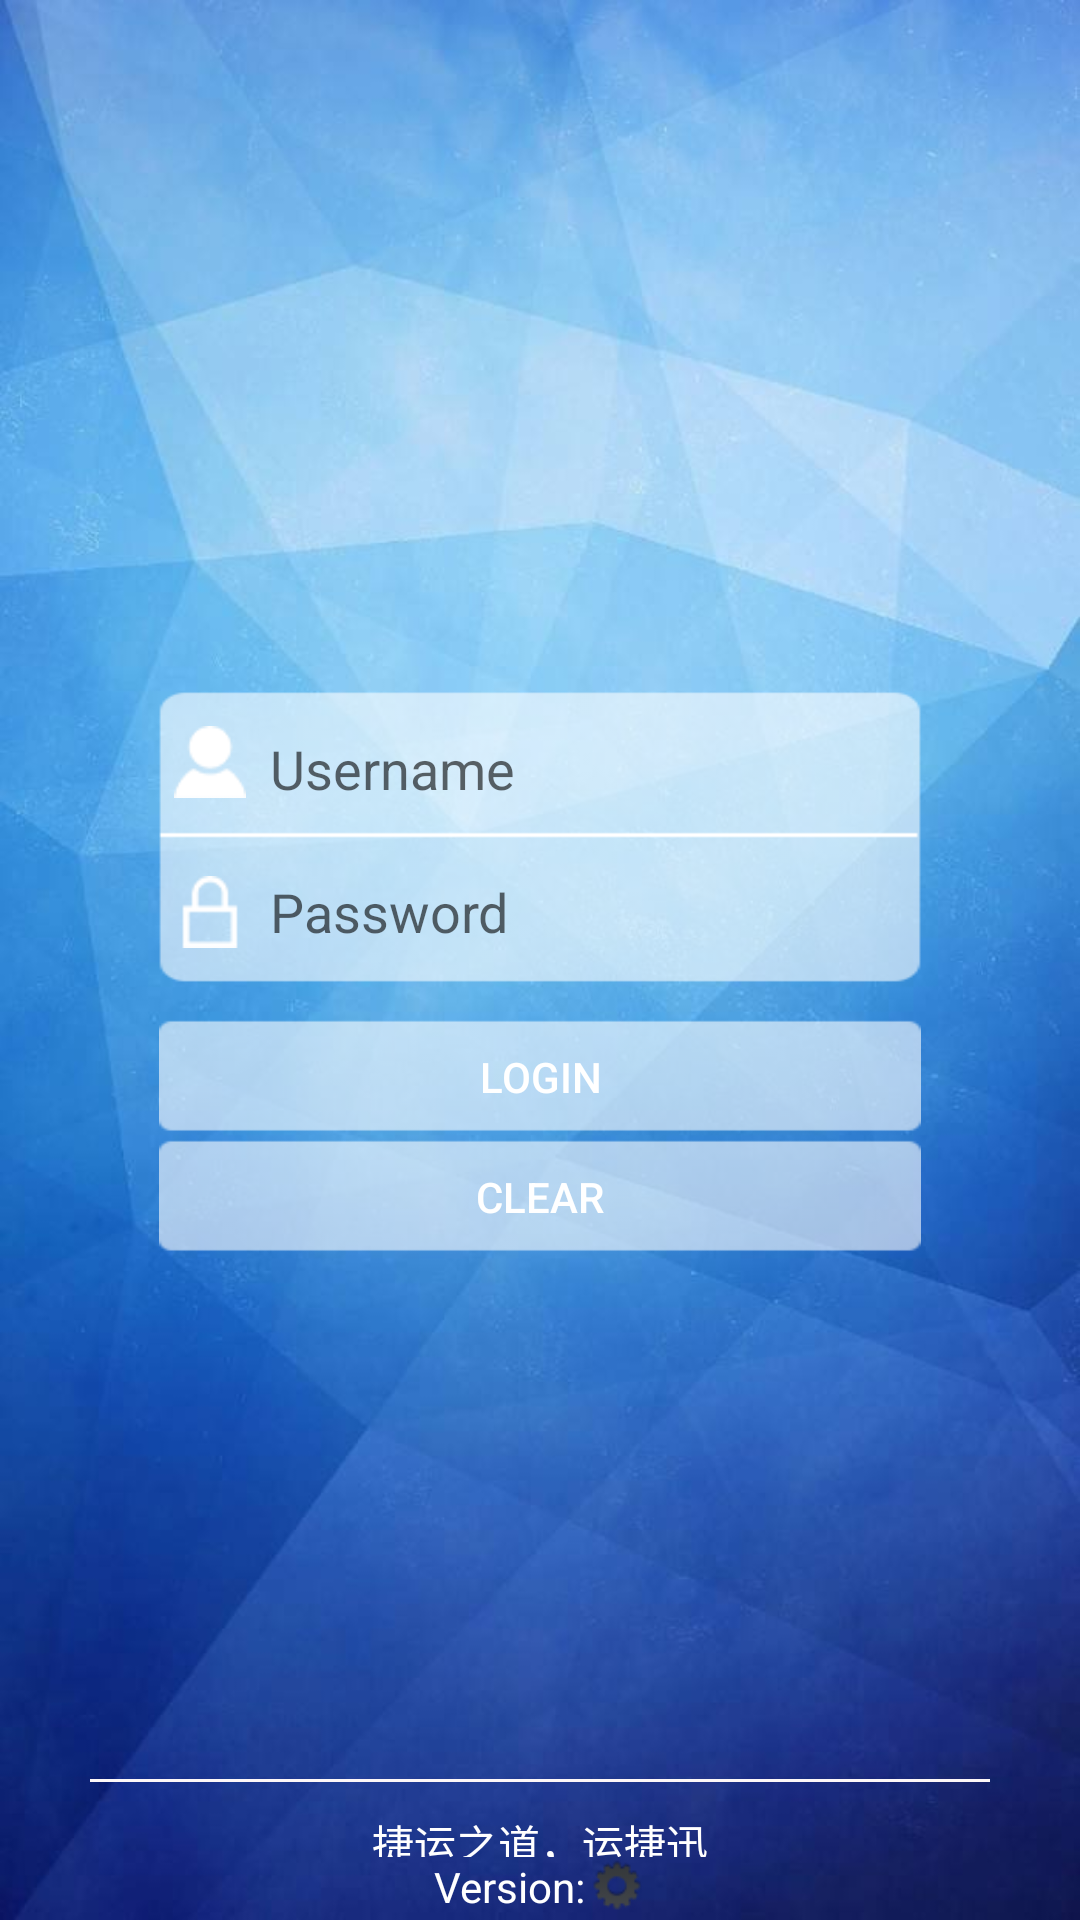

Icons on this 1080 × 1920 Android screen, each with the point to tap as (x=x, y=y):
lock: (x=210, y=912)
man: (x=210, y=762)
setting: (x=617, y=1885)
